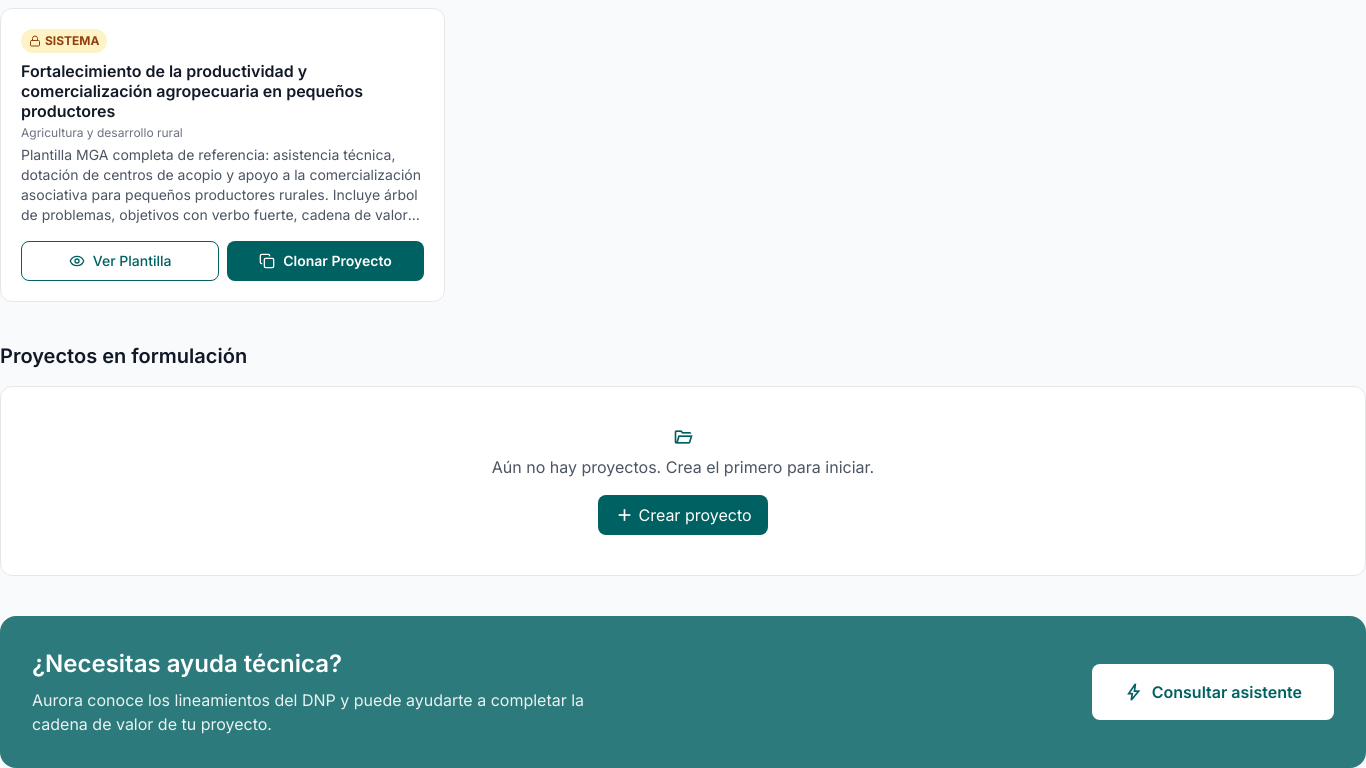
Scenario: ProjectsDashboard › muestra el estado vacío e invita a crear el primer proyecto
This screenshot has width=1366, height=768.
(page scrolled)
Check: the text "Aún no hay proyectos. Crea el primero para iniciar." is shown, box [492, 457, 874, 477]
Step 1. Click the button "Crear proyecto" → (683, 515), box [598, 495, 768, 535]
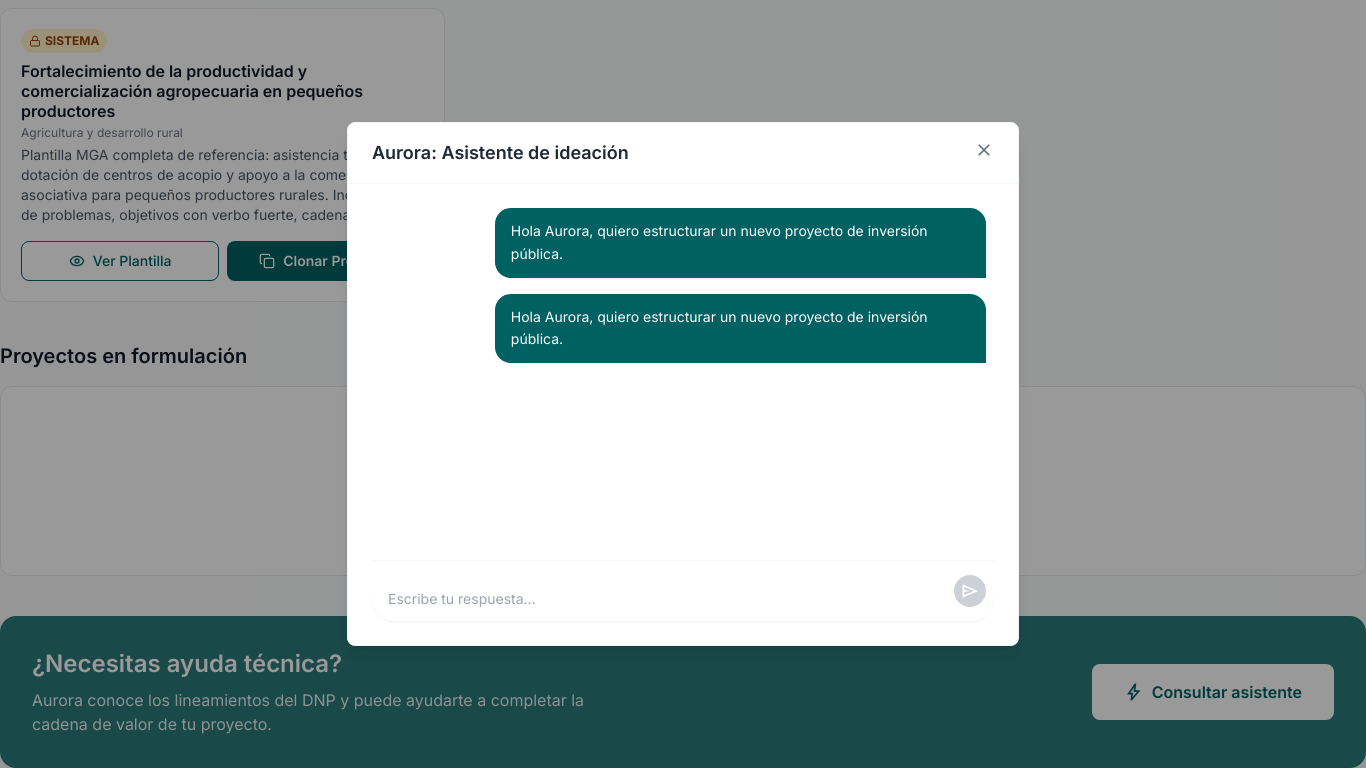
Check: the dialog is shown, box [347, 122, 1019, 646]
